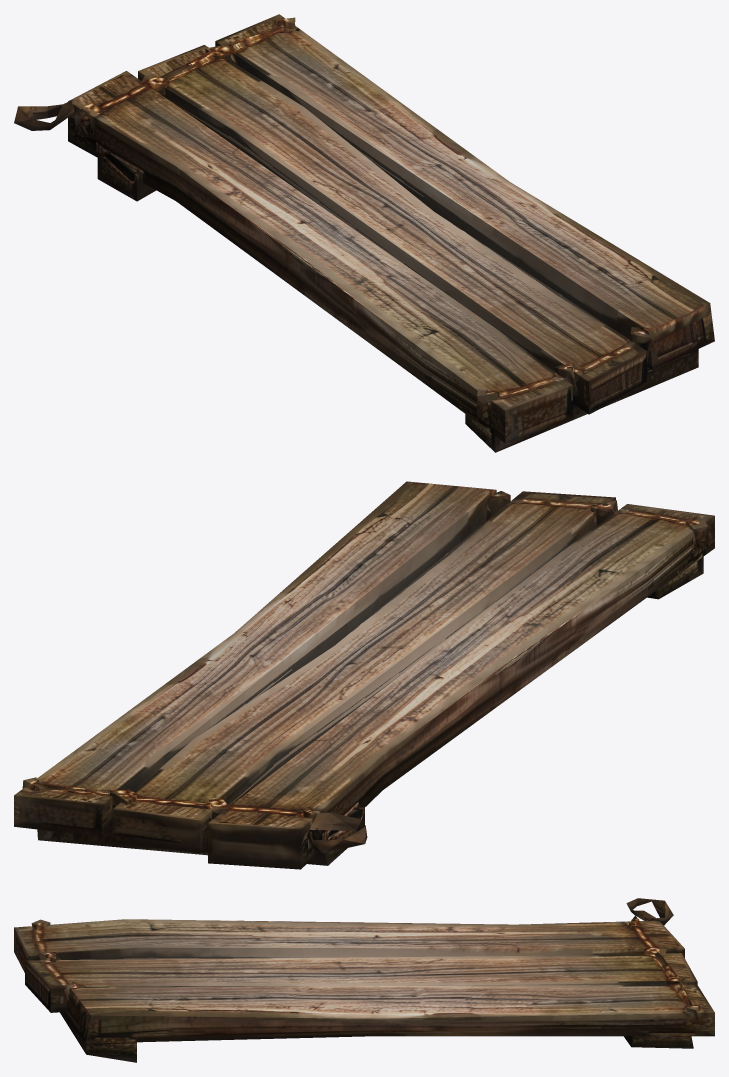
The model's file is act1_kit_v1_plank_crossing.glb.
The picture shows the model from 3 angles, top to bottom: view 1: azimuth 30°, elevation 25°; view 2: azimuth 150°, elevation 25°; view 3: azimuth 270°, elevation 25°; orthographic projection. The views are drawn at different scales.
Visible parts, largest first — view 1: A25_2_plank_crossing; view 2: A25_2_plank_crossing; view 3: A25_2_plank_crossing.
Boxes of the visible parts, x1,y1,x2,y2 form: A25_2_plank_crossing: (14,14,714,452); A25_2_plank_crossing: (14,481,714,869); A25_2_plank_crossing: (14,898,714,1062).
Size of the model in its own units: 0.4098 by 0.08 by 0.9943.
Materials: 1 (1 with a texture image).
